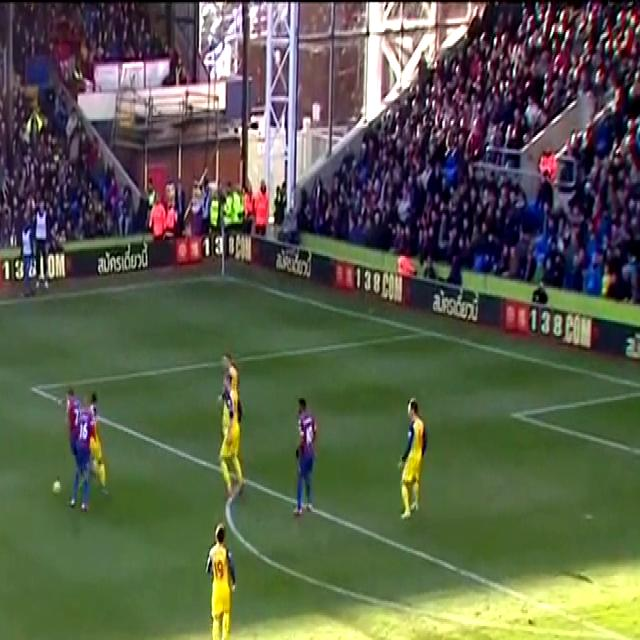ball: (49, 470, 68, 508)
soccer-player: (380, 391, 438, 528), (205, 346, 252, 509), (283, 392, 336, 528), (200, 508, 246, 640)
